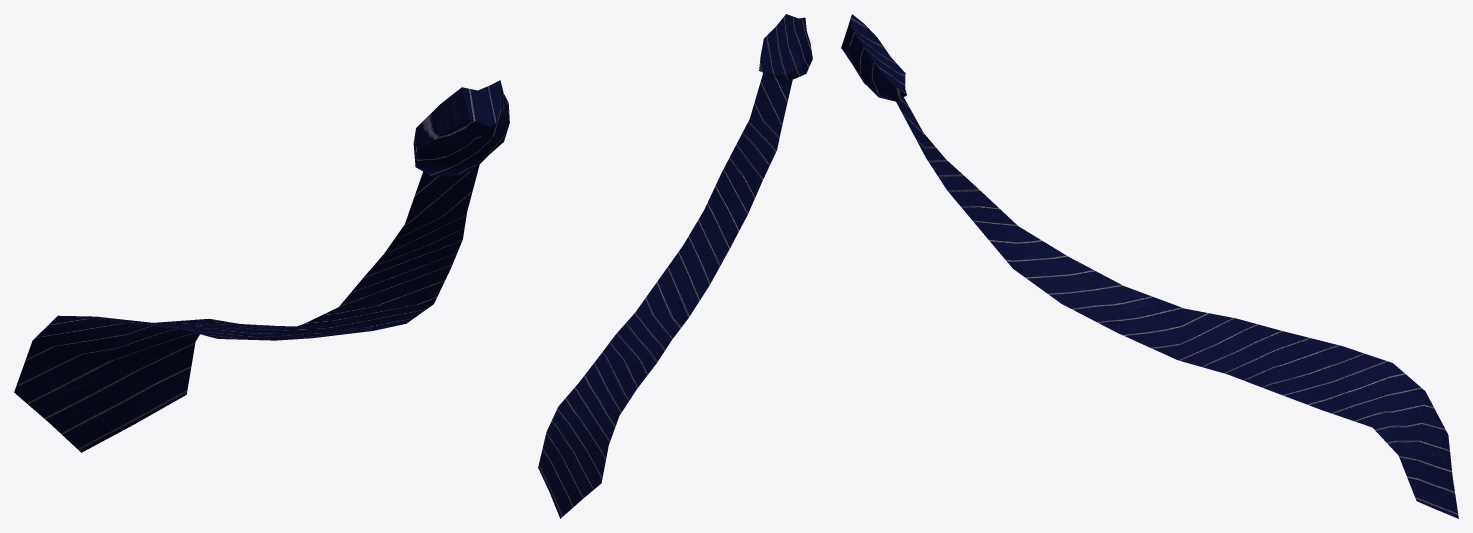
File: Pose-8_SuitTie-4.fbx
3 views of the same model, side by side, from view 1: azimuth 30°, elevation 25°; view 2: azimuth 150°, elevation 25°; view 3: azimuth 270°, elevation 25° (orthographic). The views are drawn at different scales.
Parts seen in each view (by area): view 1: Pose-8_SuitTie-4; view 2: Pose-8_SuitTie-4; view 3: Pose-8_SuitTie-4.
Boxes of the visible parts, x1,y1,x2,y2 form: Pose-8_SuitTie-4: (14, 80, 509, 452); Pose-8_SuitTie-4: (538, 14, 812, 518); Pose-8_SuitTie-4: (841, 14, 1458, 518).
Size of the model in its own units: 7.12 by 29.95 by 34.49.
